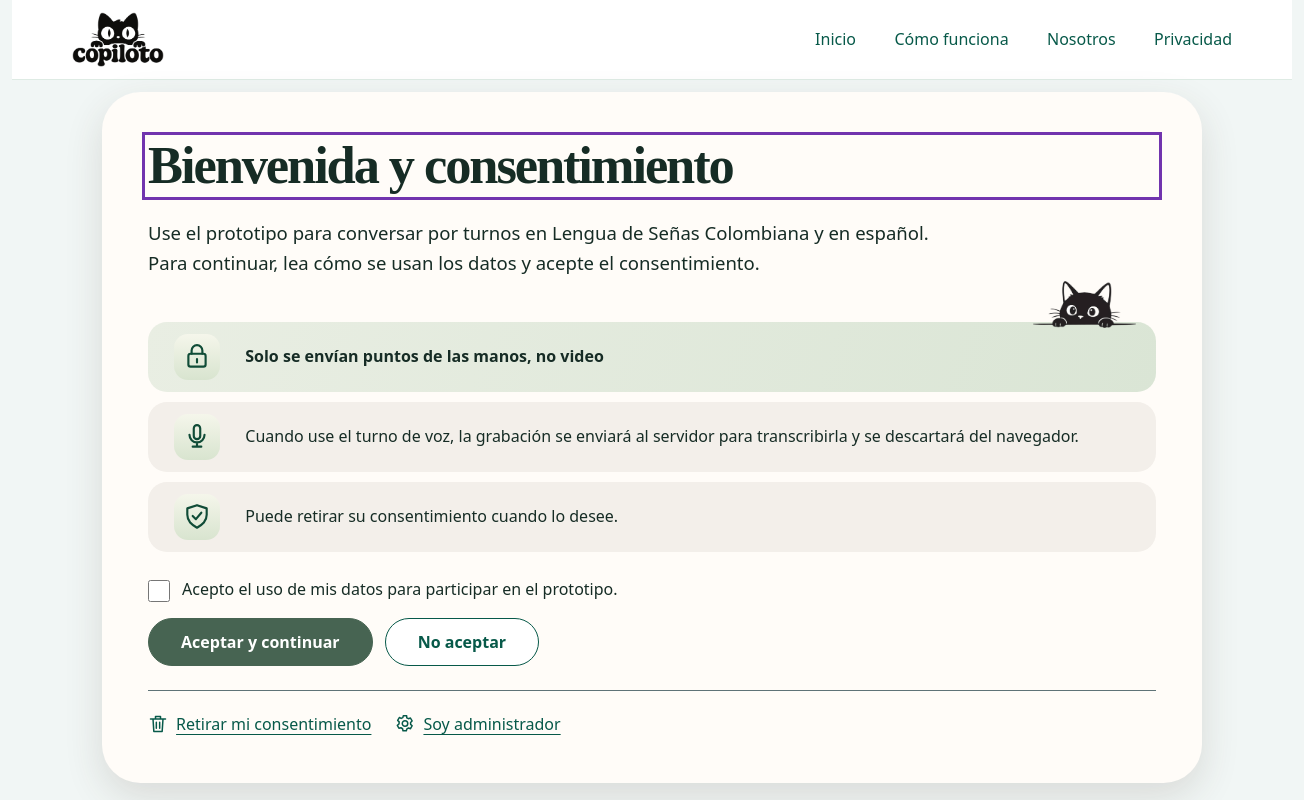
Test: permite rechazar y volver a leer sin solicitar acceso a la cámara
expect the button "Aceptar y continuar" is disabled: met, box [148, 618, 373, 666]
Click the button "No aceptar" at {"x": 462, "y": 642}, box [385, 618, 539, 666]
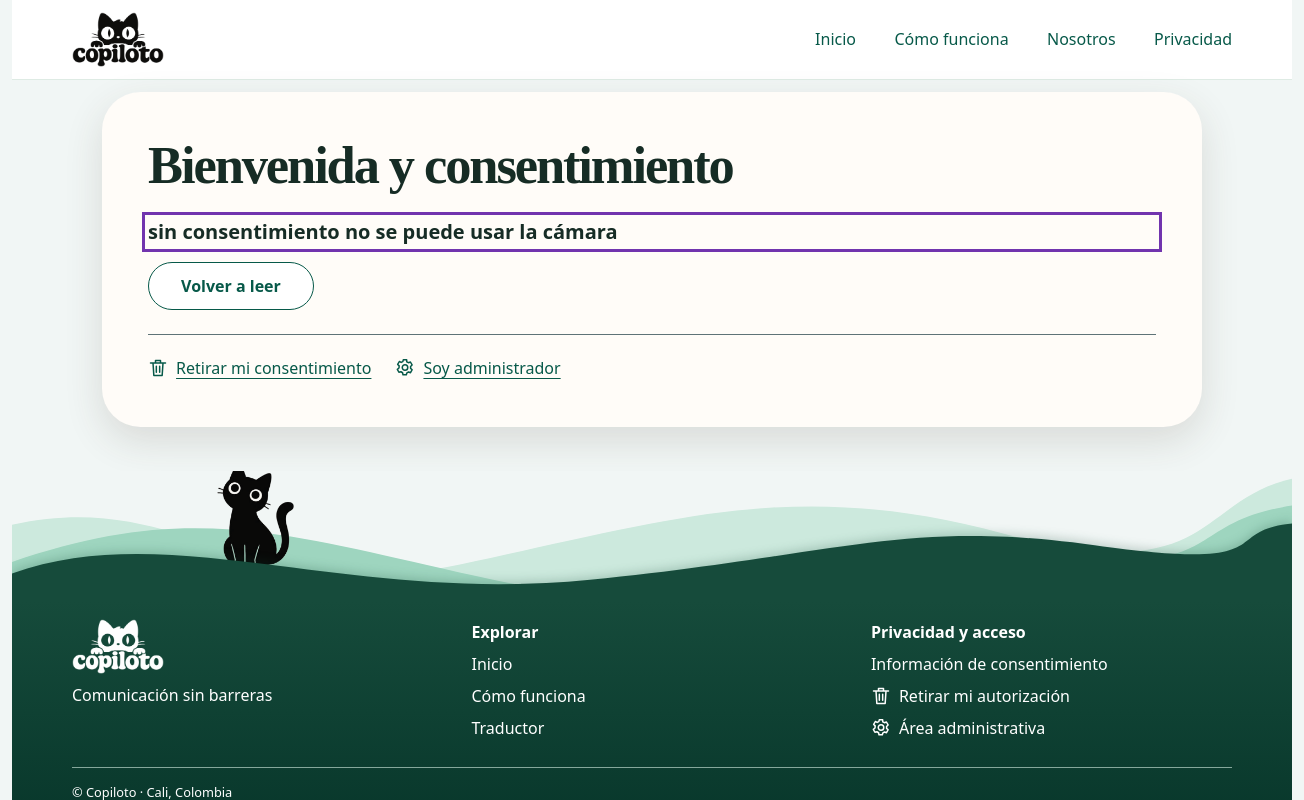
Click the button "Volver a leer" at {"x": 231, "y": 286}, box [148, 262, 314, 310]
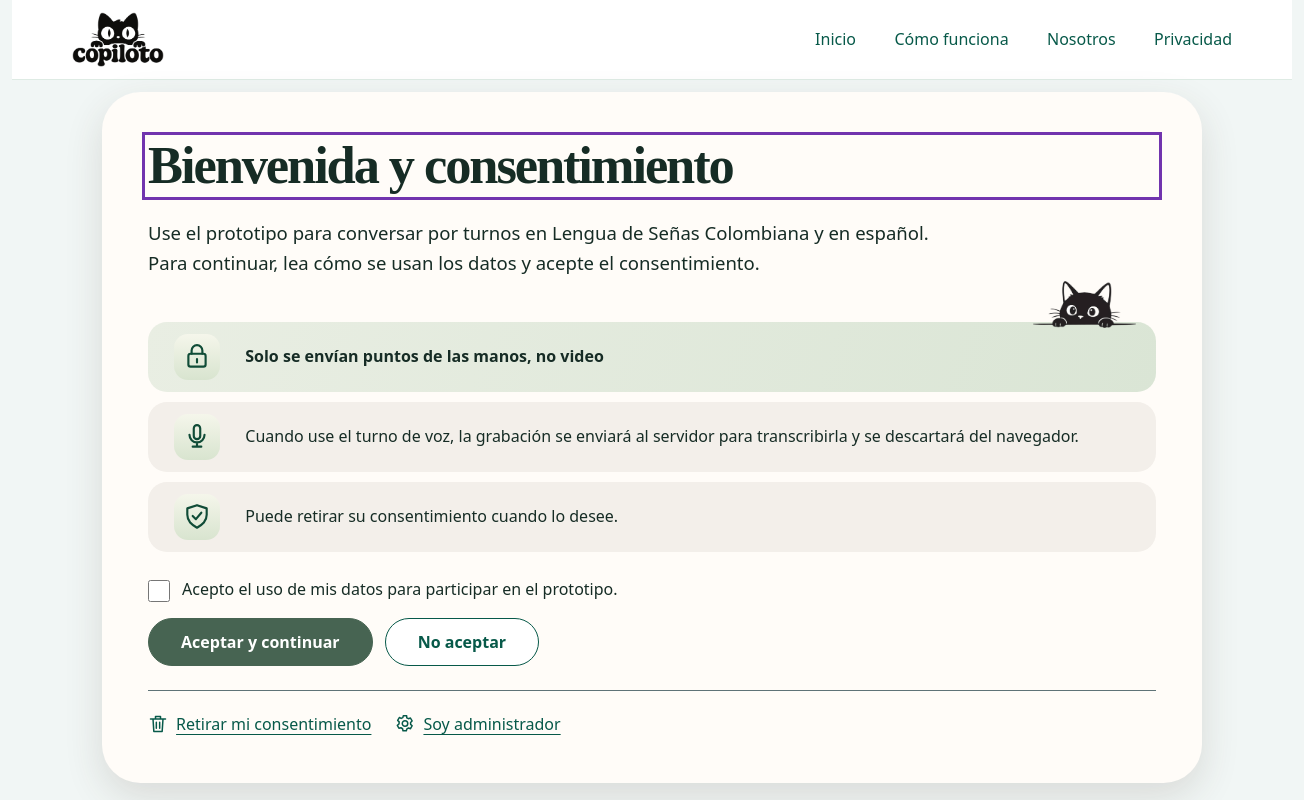
expect the checkbox labelled "Acepto el uso de mis datos para participar en el prototipo." is shown: met, box [148, 580, 170, 602]
